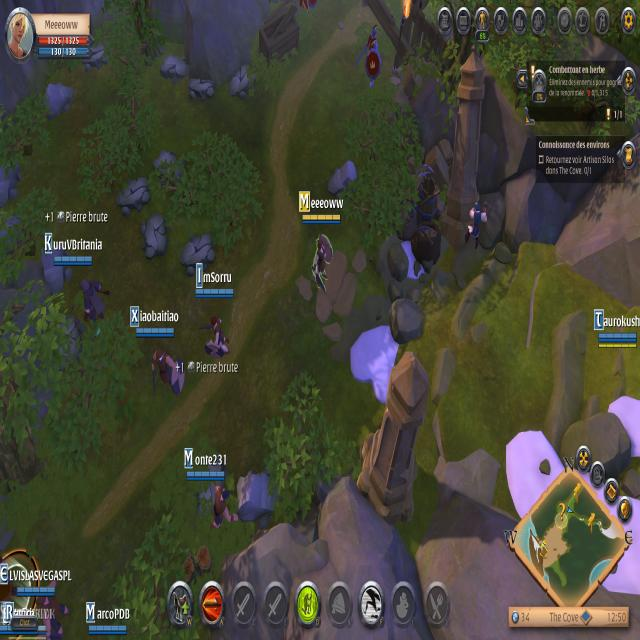broken stone: (179, 227, 217, 279), (138, 215, 171, 264), (153, 146, 188, 191), (114, 176, 150, 216), (157, 47, 191, 89), (227, 60, 256, 105), (186, 71, 218, 108), (81, 37, 112, 74)
stone: (236, 470, 280, 533), (36, 240, 72, 292), (327, 155, 359, 206), (40, 78, 74, 119), (0, 153, 20, 214)
